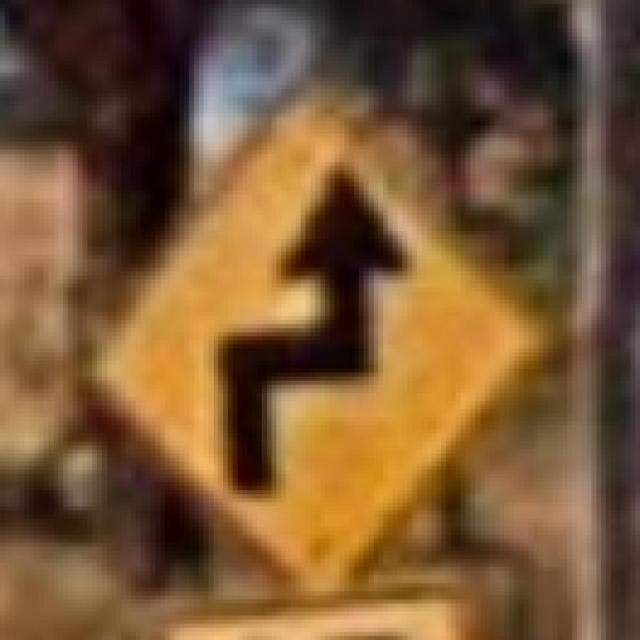Tikungan Ganda Pertama Ke Kanan: (87, 89, 534, 600)
